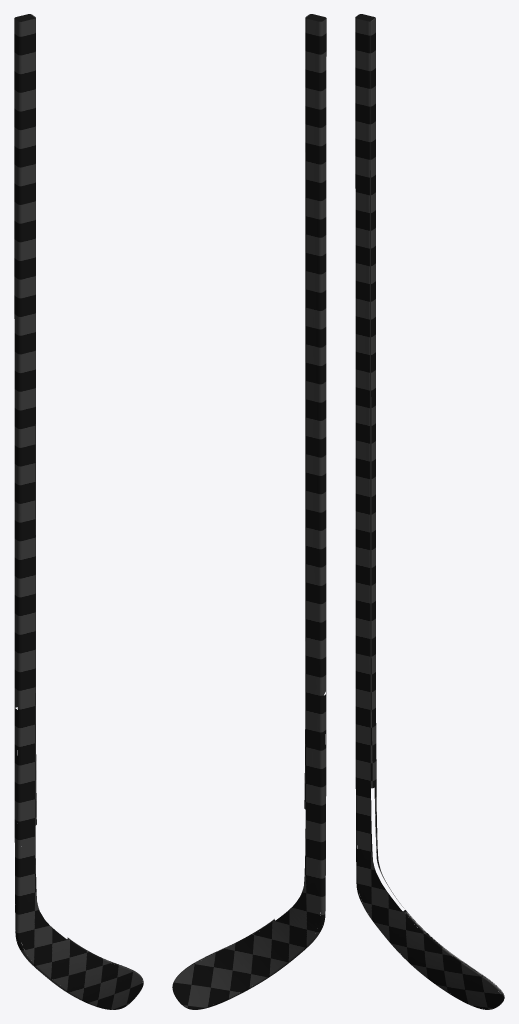
The picture shows the model from 3 angles, left to right: view 1: azimuth 30°, elevation 25°; view 2: azimuth 150°, elevation 25°; view 3: azimuth 330°, elevation 25°; orthographic projection. The views are drawn at different scales.
Parts seen in each view (by area): view 1: geometry_0; view 2: geometry_0; view 3: geometry_0.
Boxes of the visible parts, x1,y1,x2,y2 form: geometry_0: (14,14,143,1009); geometry_0: (172,14,326,1009); geometry_0: (355,14,504,1009).
Size of the model in its own units: 237 by 1650 by 56.45.
Materials: 1 (1 with a texture image).
